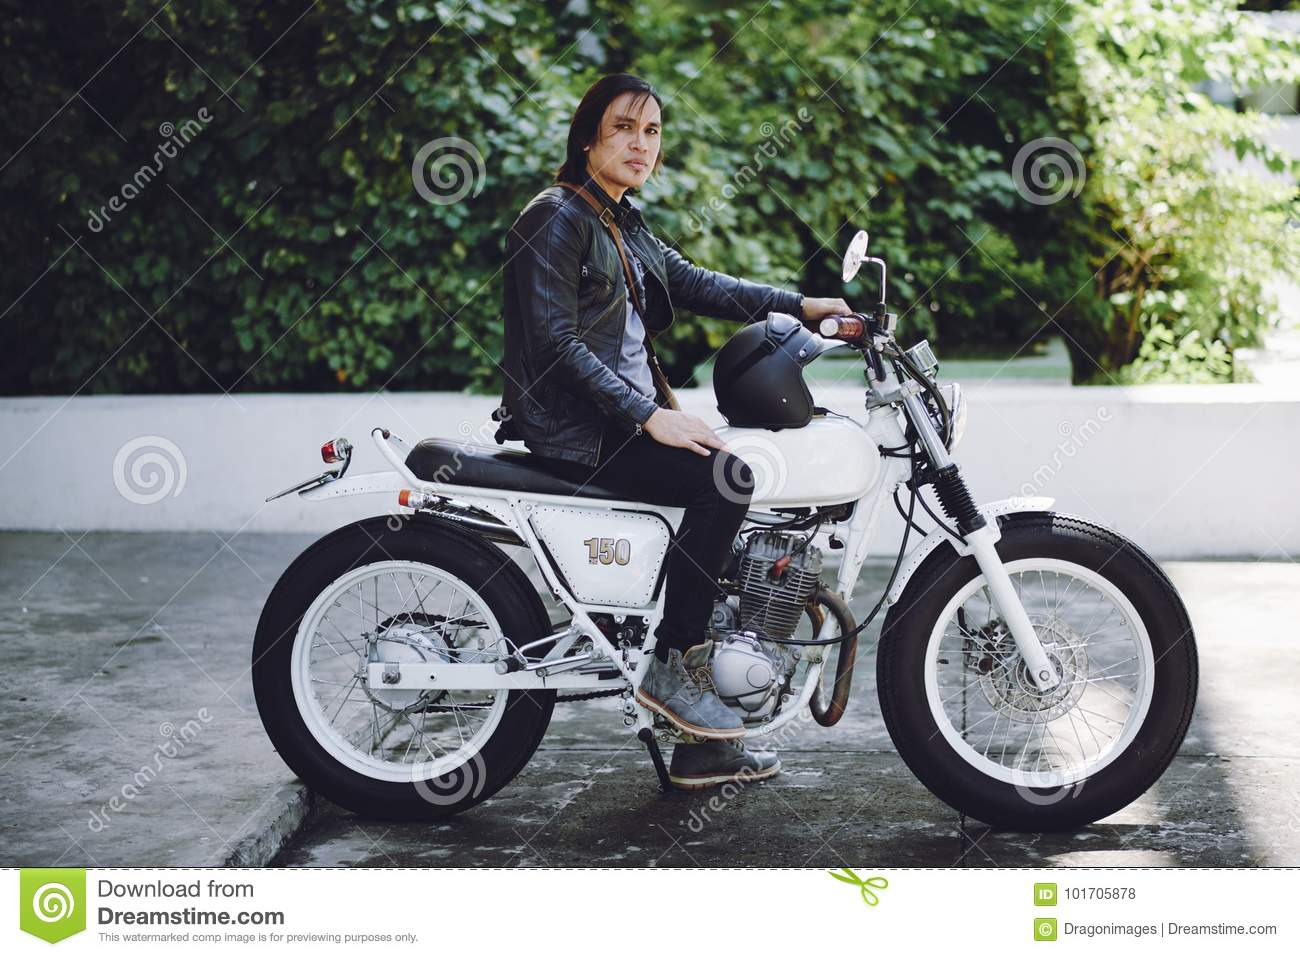with_helmet: (714, 313, 818, 422)
